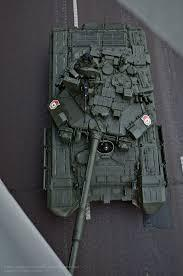tank: (34, 17, 180, 276)
